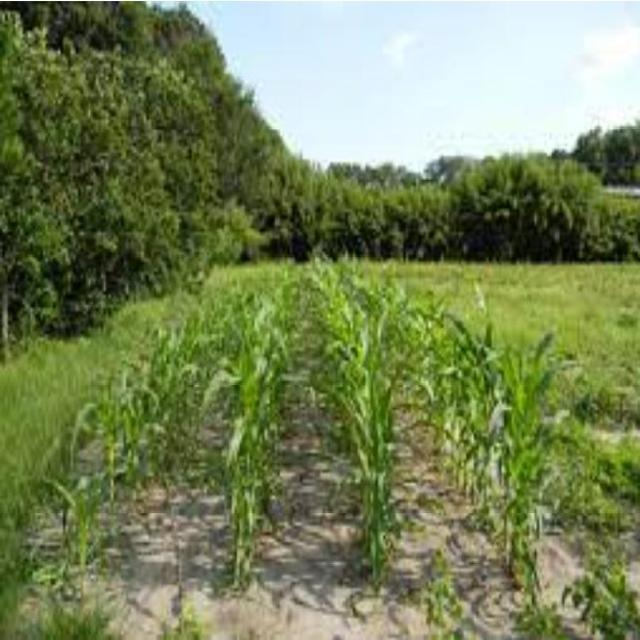row: (72, 298, 251, 635), (351, 278, 523, 614), (252, 266, 368, 632)
